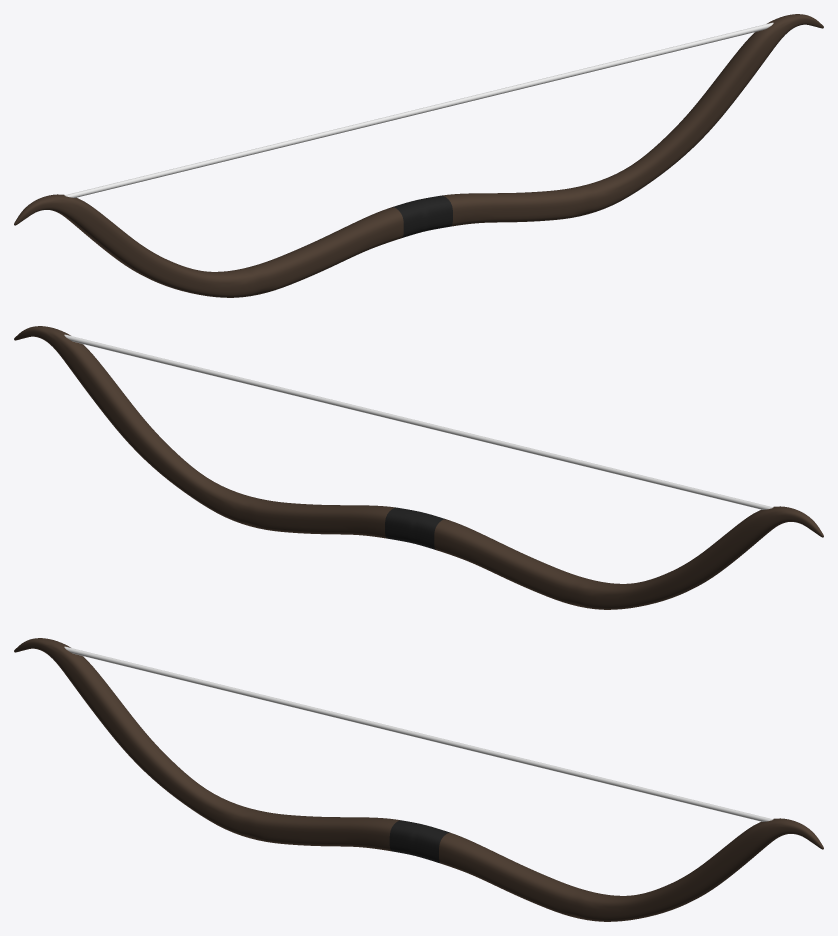
The model's file is bow.fbx.
3 views of the same model, one above another, from view 1: azimuth 30°, elevation 25°; view 2: azimuth 150°, elevation 25°; view 3: azimuth 330°, elevation 25° (orthographic).
Visible parts, largest first — view 1: Bow; view 2: Bow; view 3: Bow.
Boxes of the visible parts, box(x1,y1,x2,y2) form: Bow: box(14, 14, 823, 297); Bow: box(14, 326, 823, 609); Bow: box(14, 638, 823, 921).
Size of the model in its own units: 86.69 by 14.99 by 2.62.
